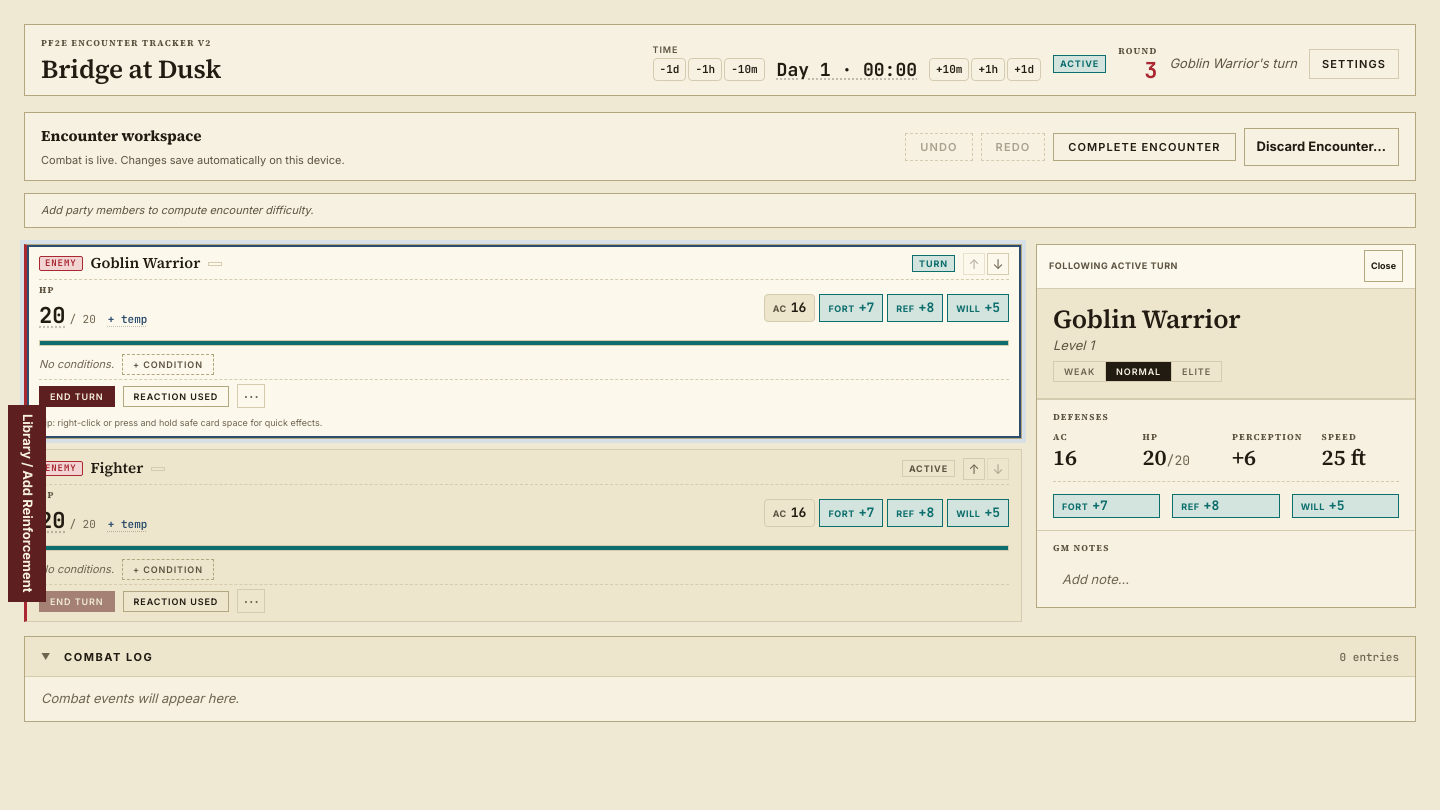
encounter lifecycle flow › completes ACTIVE encounters into an explicit read-only review state
The width and height of the screenshot is (1440, 810).
Expected: the heading "Bridge at Dusk" is shown, [41,54,221,83]
Click the button "Complete Encounter" at (1144, 147), box [1053,133,1236,161]
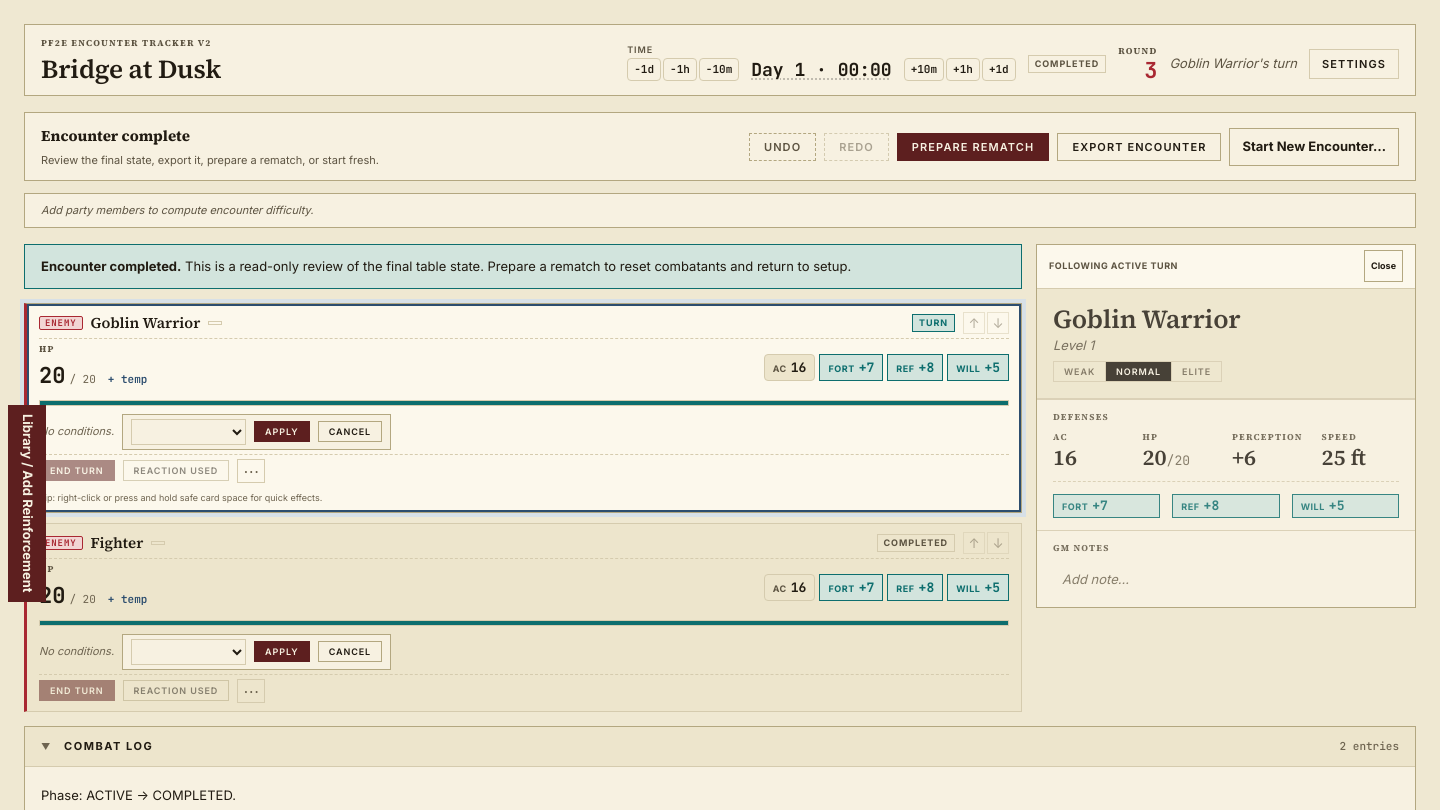
Expected: the message shows "Encounter completed.", [41,258,181,274]
Expected: the message shows "read-only review of the final table state", [181,258,851,274]
Expected: the button "Prepare Rematch" is shown, [897,133,1049,161]
